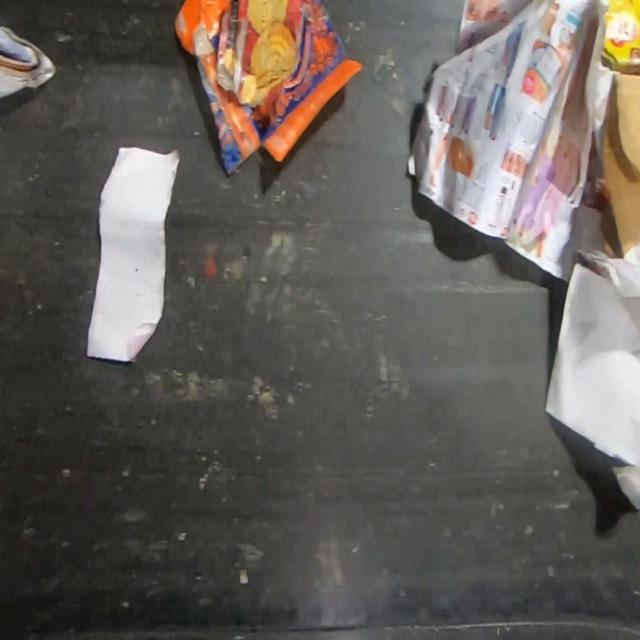cardboard: (173, 0, 364, 176), (600, 72, 640, 257), (598, 0, 639, 75)
